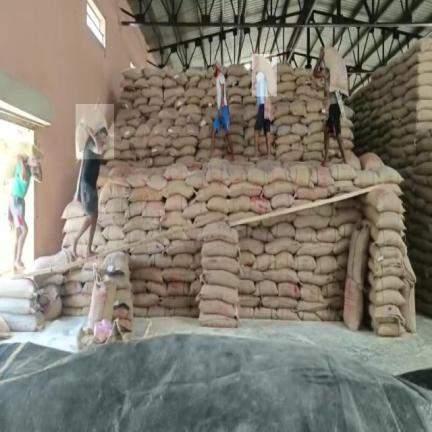Zone-Counting: (1, 141, 43, 271), (72, 107, 107, 256), (313, 47, 348, 164), (252, 54, 276, 156)
